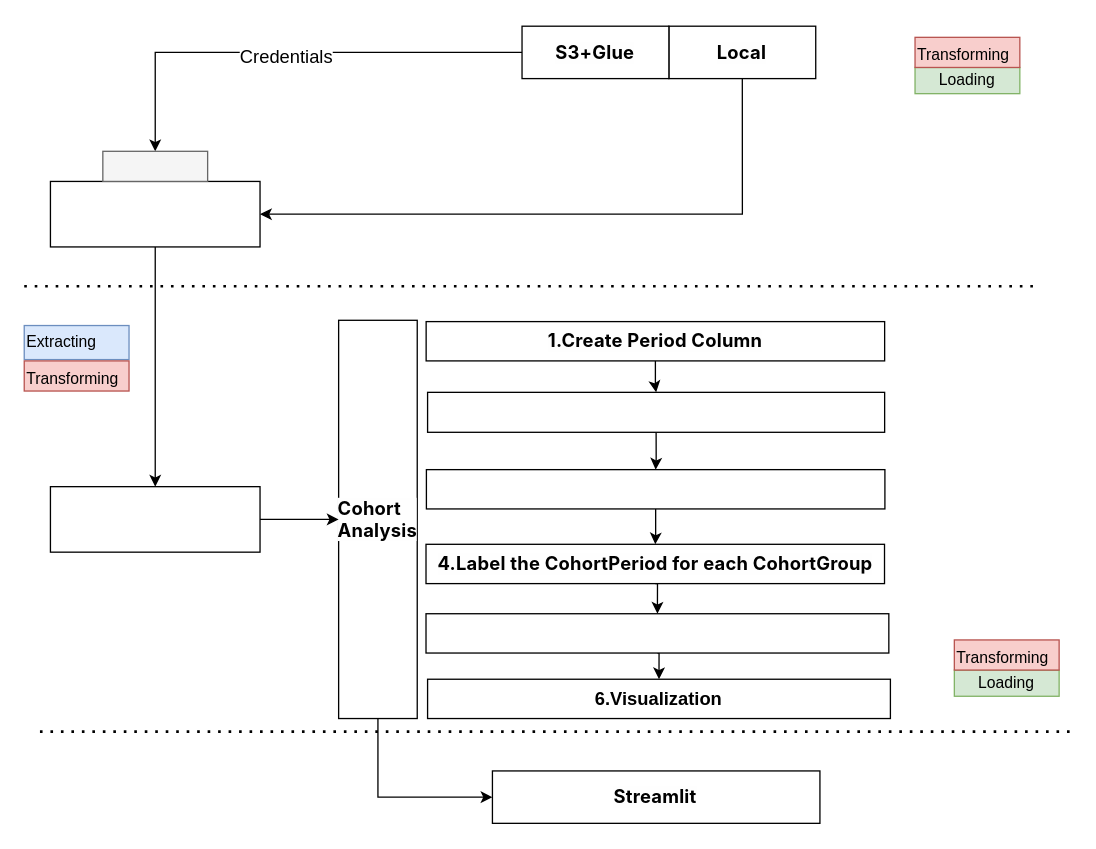
Image size: 1096x849. Some labels were removed from this diagram. Here are the shapes that lost their labels. From the top down, the centre of each, then its label:
point 155,165: Stage Table
point 154,213: SnowFlake DW
point 655,411: 2.Determine the user's cohort group(first Order)
point 655,488: 3.Rollup data by CohortGroup & OrderPeriod
point 154,518: Snowpark.session
point 657,632: 5.User Retention by Cohort Group
